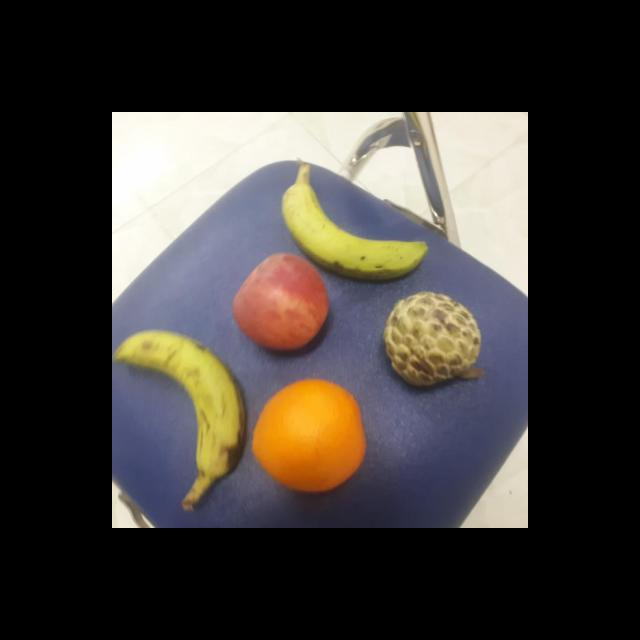Sakya fruit: (383, 290, 483, 390)
apple: (227, 248, 331, 354)
banana: (112, 327, 248, 479), (277, 177, 431, 280)
orange: (247, 376, 366, 494)
